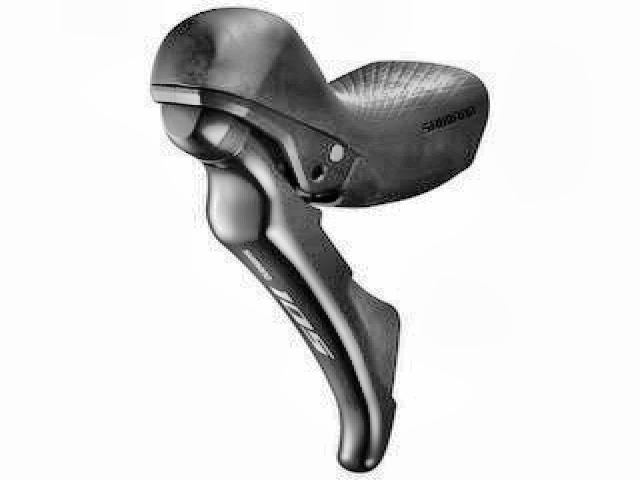sti_shifter: (154, 8, 493, 474)
